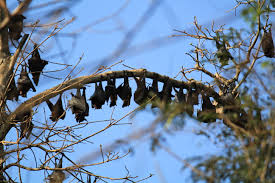bats: (17, 44, 57, 78), (68, 85, 94, 123), (40, 92, 70, 123), (0, 11, 36, 35), (17, 63, 42, 95), (14, 106, 38, 139), (253, 23, 274, 60), (43, 154, 68, 182), (103, 75, 121, 110), (116, 72, 133, 107), (211, 38, 234, 63), (91, 79, 107, 114), (134, 75, 149, 112), (1, 74, 19, 103), (159, 80, 173, 111), (147, 77, 159, 110), (174, 81, 186, 113), (185, 85, 198, 114), (201, 89, 214, 116)
